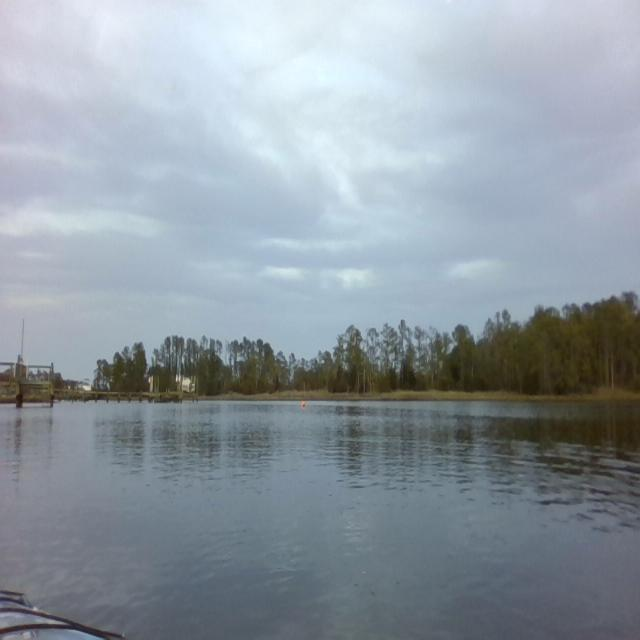Buoy: (300, 398, 306, 410)
